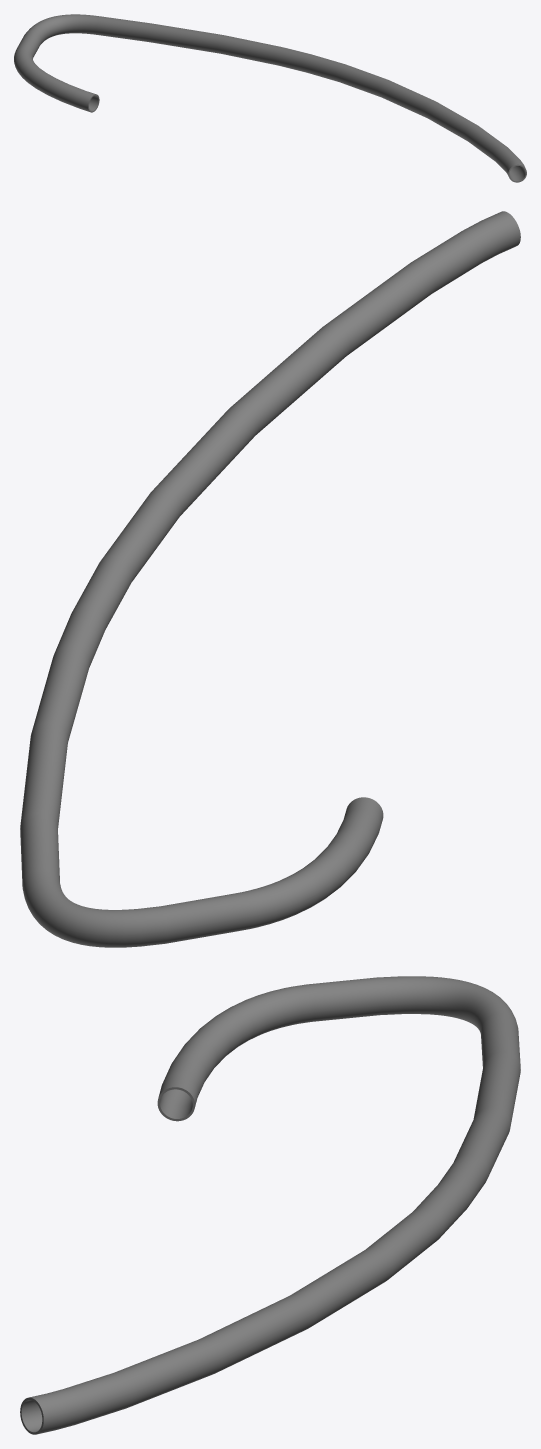
Rendered from buisje.fbx.
3 views of the same model, one above another, from view 1: azimuth 30°, elevation 25°; view 2: azimuth 150°, elevation 25°; view 3: azimuth 330°, elevation 25° (orthographic). The views are drawn at different scales.
Visible parts, largest first — view 1: Sweep; view 2: Sweep; view 3: Sweep.
Part boxes in pixels (x1=…): Sweep: x1=14, y1=14, x2=525, y2=181; Sweep: x1=20, y1=211, x2=520, y2=947; Sweep: x1=21, y1=976, x2=520, y2=1434.
Size of the model in its own units: 691 by 246 by 1770.
